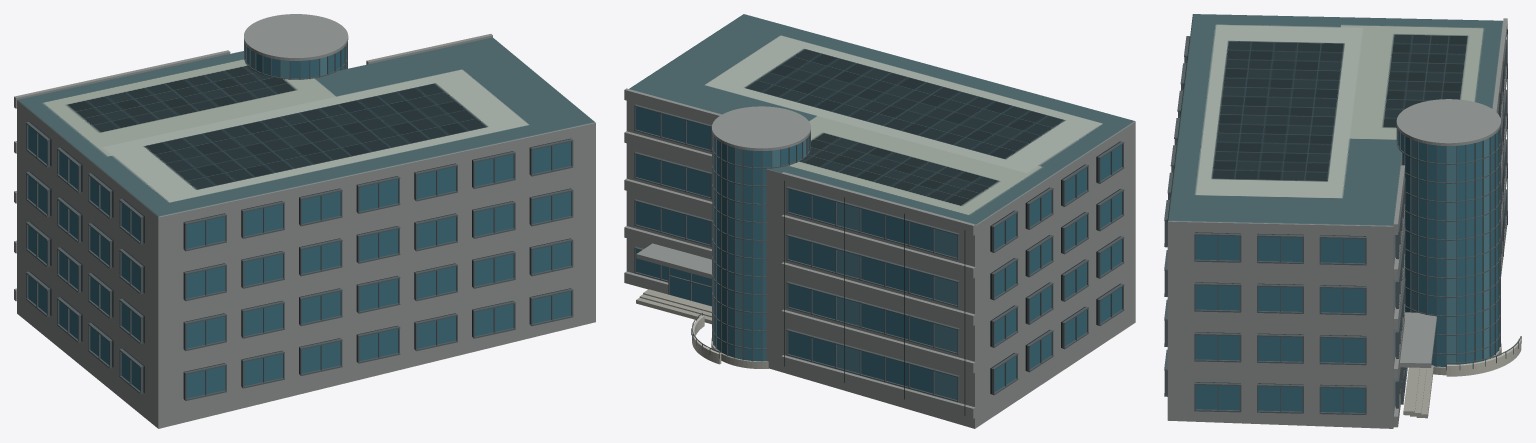
The model's file is fragments.glb.
The picture shows the model from 3 angles, left to right: view 1: azimuth 30°, elevation 25°; view 2: azimuth 150°, elevation 25°; view 3: azimuth 270°, elevation 25°; orthographic projection. The views are drawn at different scales.
Visible parts, largest first — view 1: SM_524021463_Fragment_018, SM_524021463_Fragment_011, SM_524021463_Fragment_009, SM_524021463_Fragment_063, SM_524021463_Fragment_001, SM_524021463_Fragment_010, SM_524021463_Fragment_037, SM_524021463_Fragment_005, SM_524021463_Fragment_023, SM_524021463_Fragment_058, SM_524021463_Fragment_031, SM_524021463_Fragment_021 (+25 smaller); view 2: SM_524021463_Fragment_046, SM_524021463_Fragment_004, SM_524021463_Fragment_030, SM_524021463_Fragment_041, SM_524021463_Fragment_038, SM_524021463_Fragment_025, SM_524021463_Fragment_054, SM_524021463_Fragment_019, SM_524021463_Fragment_014, SM_524021463_Fragment_012, SM_524021463_Fragment_049, SM_524021463_Fragment_007 (+23 smaller); view 3: SM_524021463_Fragment_046, SM_524021463_Fragment_023, SM_524021463_Fragment_016, SM_524021463_Fragment_044, SM_524021463_Fragment_022, SM_524021463_Fragment_019, SM_524021463_Fragment_061, SM_524021463_Fragment_012, SM_524021463_Fragment_038, SM_524021463_Fragment_009, SM_524021463_Fragment_007, SM_524021463_Fragment_050 (+19 smaller).
Boxes of the visible parts, box(x1,y1,x2,y2) form: SM_524021463_Fragment_018: box(357, 140, 519, 290); SM_524021463_Fragment_011: box(325, 253, 469, 379); SM_524021463_Fragment_009: box(278, 126, 408, 224); SM_524021463_Fragment_063: box(226, 198, 342, 331); SM_524021463_Fragment_001: box(452, 248, 595, 357); SM_524021463_Fragment_010: box(147, 162, 302, 256); SM_524021463_Fragment_037: box(119, 185, 226, 311); SM_524021463_Fragment_005: box(181, 256, 284, 397); SM_524021463_Fragment_023: box(519, 141, 595, 274); SM_524021463_Fragment_058: box(119, 291, 226, 403); SM_524021463_Fragment_031: box(450, 100, 573, 192); SM_524021463_Fragment_021: box(219, 325, 358, 413); SM_524021463_Fragment_046: box(712, 132, 810, 361); SM_524021463_Fragment_004: box(781, 168, 975, 399); SM_524021463_Fragment_030: box(781, 197, 975, 382); SM_524021463_Fragment_041: box(885, 305, 1018, 428); SM_524021463_Fragment_038: box(624, 226, 711, 324); SM_524021463_Fragment_025: box(983, 185, 1053, 300); SM_524021463_Fragment_054: box(910, 229, 1002, 415); SM_524021463_Fragment_019: box(624, 64, 711, 183); SM_524021463_Fragment_014: box(781, 310, 975, 418); SM_524021463_Fragment_012: box(624, 158, 711, 246); SM_524021463_Fragment_049: box(766, 145, 885, 227); SM_524021463_Fragment_007: box(711, 106, 813, 248); SM_524021463_Fragment_046: box(1405, 126, 1500, 364); SM_524021463_Fragment_023: box(1164, 219, 1247, 367); SM_524021463_Fragment_016: box(1396, 126, 1446, 367); SM_524021463_Fragment_044: box(1241, 236, 1365, 362); SM_524021463_Fragment_022: box(1182, 368, 1341, 426); SM_524021463_Fragment_019: box(1312, 196, 1405, 313); SM_524021463_Fragment_061: box(1167, 202, 1303, 271); SM_524021463_Fragment_012: box(1309, 254, 1405, 388); SM_524021463_Fragment_038: box(1319, 310, 1436, 428); SM_524021463_Fragment_009: box(1174, 80, 1312, 143); SM_524021463_Fragment_007: box(1396, 99, 1500, 240); SM_524021463_Fragment_050: box(1198, 124, 1338, 174).
Size of the model in its own units: 2.2 by 1.12 by 1.55.
Materials: 10 (1 with a texture image).
